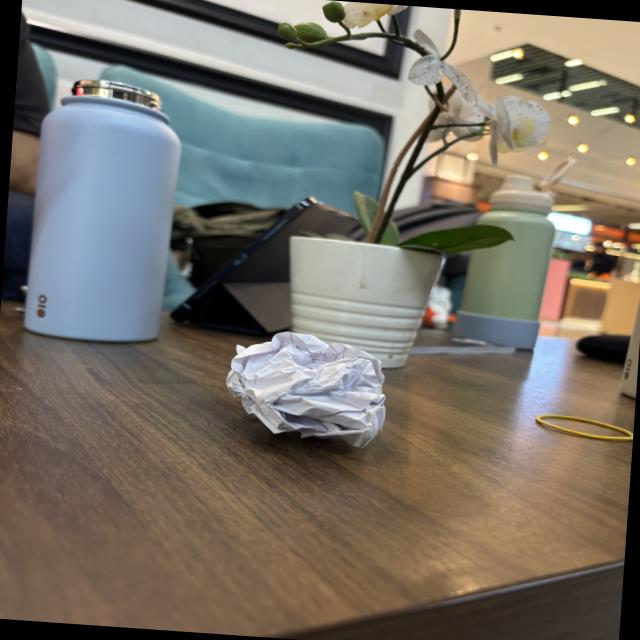crumpled_paper: (218, 318, 392, 458)
